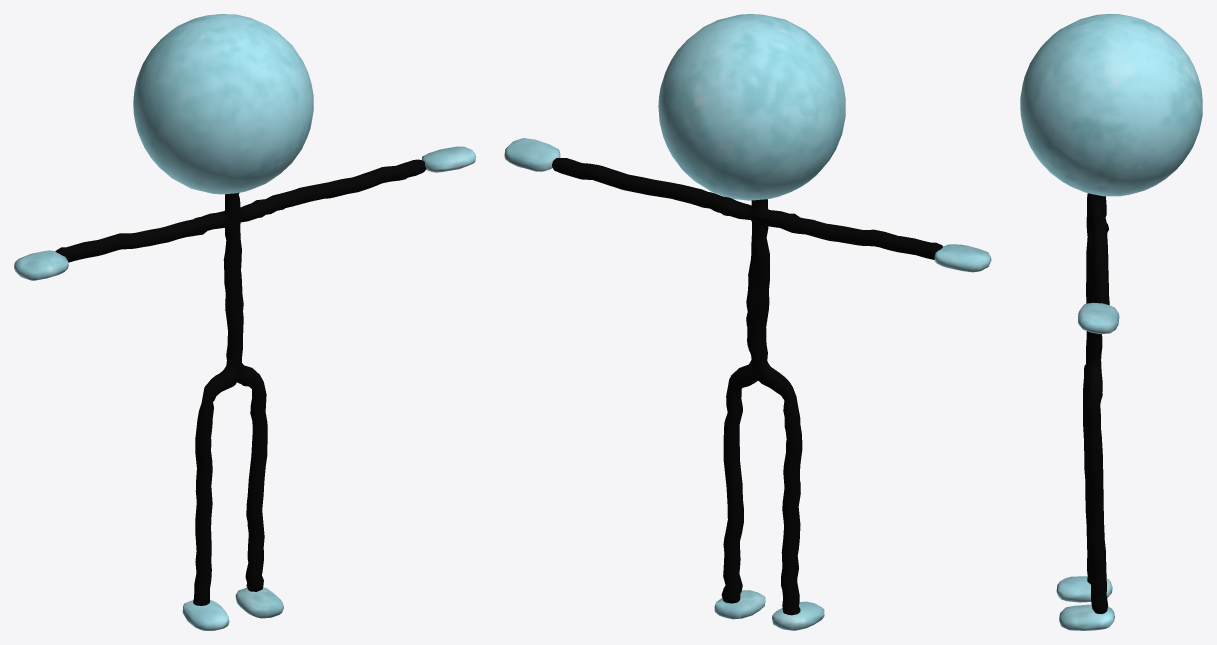
Rendered from alien mfer.glb.
3 renders of one model, left to right at view 1: azimuth 30°, elevation 25°; view 2: azimuth 150°, elevation 25°; view 3: azimuth 270°, elevation 25°, orthographic. The views are drawn at different scales.
Visible parts, largest first — view 1: type_alien.002; view 2: type_alien.002; view 3: type_alien.002.
Part boxes in pixels (x1=…): type_alien.002: x1=14, y1=14, x2=475, y2=630; type_alien.002: x1=504, y1=14, x2=991, y2=630; type_alien.002: x1=1020, y1=14, x2=1202, y2=630.
Bounding box in the file's own units: 0.9752 × 1.19 × 0.3317.
3 materials, 3 textured.
